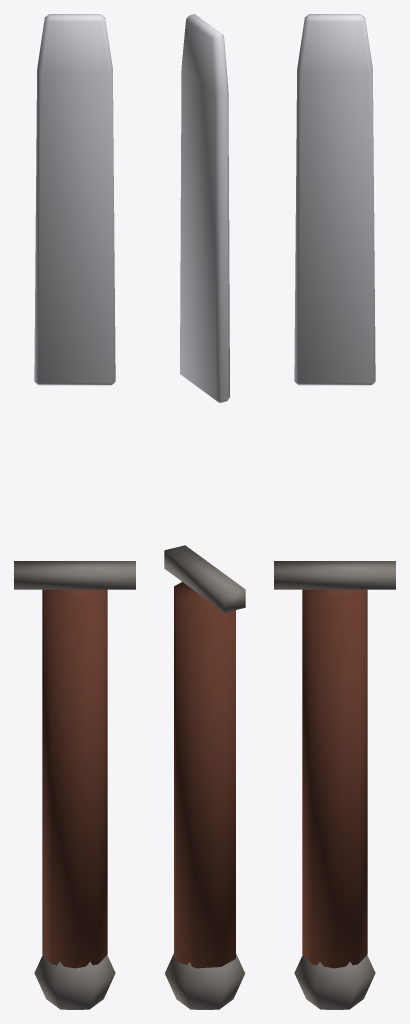
File: dagger.fbx
3 renders of one model, left to right at view 1: azimuth 90°, elevation 25°; view 2: azimuth 210°, elevation 25°; view 3: azimuth 270°, elevation 25°, orthographic.
Visible parts, largest first — view 1: dagger; view 2: dagger; view 3: dagger.
Part boxes in pixels (x1,y1,x2,y2): dagger: [14, 14, 135, 1009]; dagger: [164, 14, 245, 1009]; dagger: [274, 14, 395, 1009].
Size of the model in its own units: 0.0173 by 0.27 by 0.03.
Materials: 3 (1 with a texture image).
